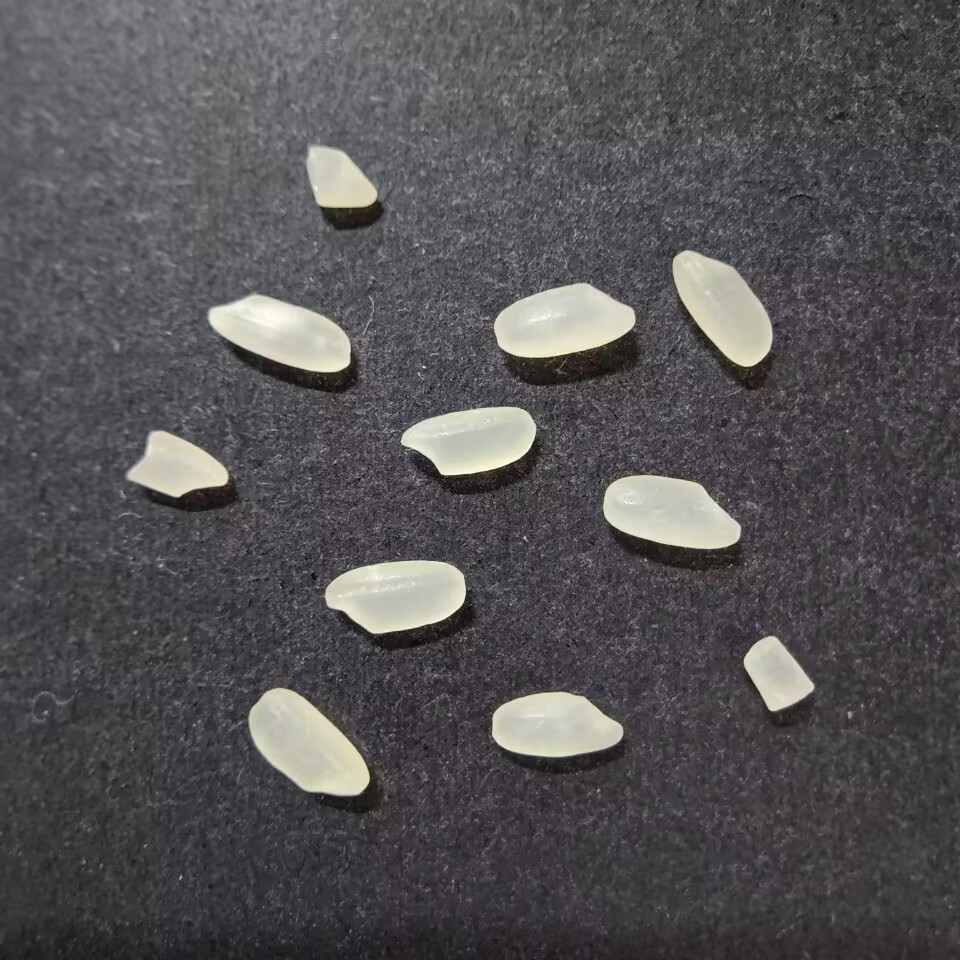broken: (125, 430, 227, 498), (743, 635, 814, 711), (305, 145, 378, 209)
rice: (247, 686, 370, 796), (671, 250, 773, 367), (207, 294, 351, 372), (492, 282, 635, 357), (324, 559, 466, 634), (601, 474, 741, 549), (399, 406, 535, 476), (490, 691, 623, 757)
